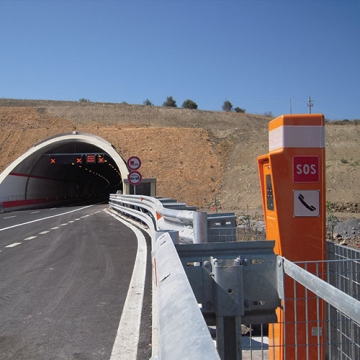bridge: (1, 131, 131, 210)
